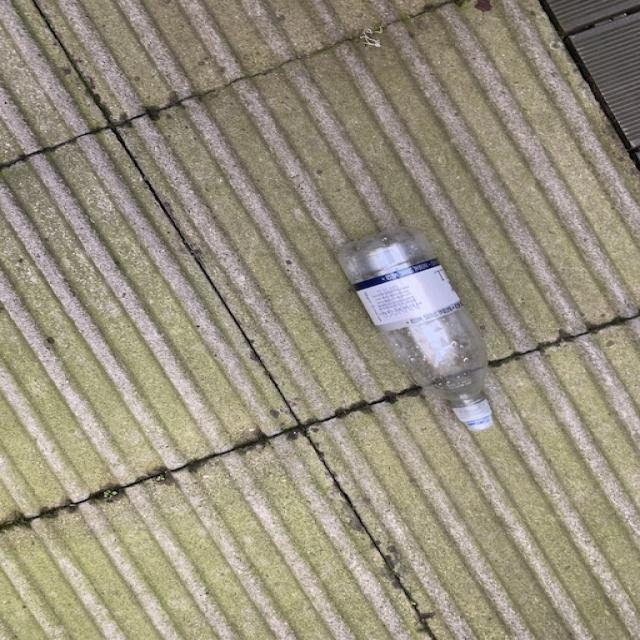Waste: (341, 228, 494, 432)
